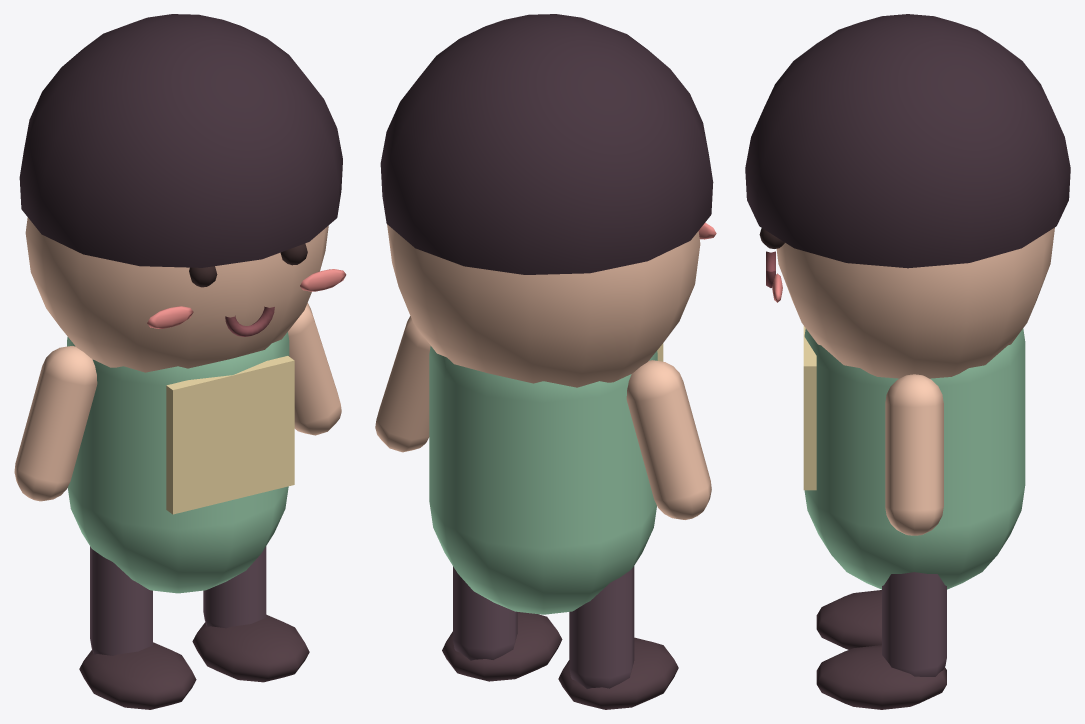
The model's file is customer-cute-05.glb.
3 views of the same model, side by side, from view 1: azimuth 30°, elevation 25°; view 2: azimuth 150°, elevation 25°; view 3: azimuth 270°, elevation 25° (orthographic). The views are drawn at different scales.
Bounding box in the file's own units: 1.13 × 2.18 × 0.9983.
